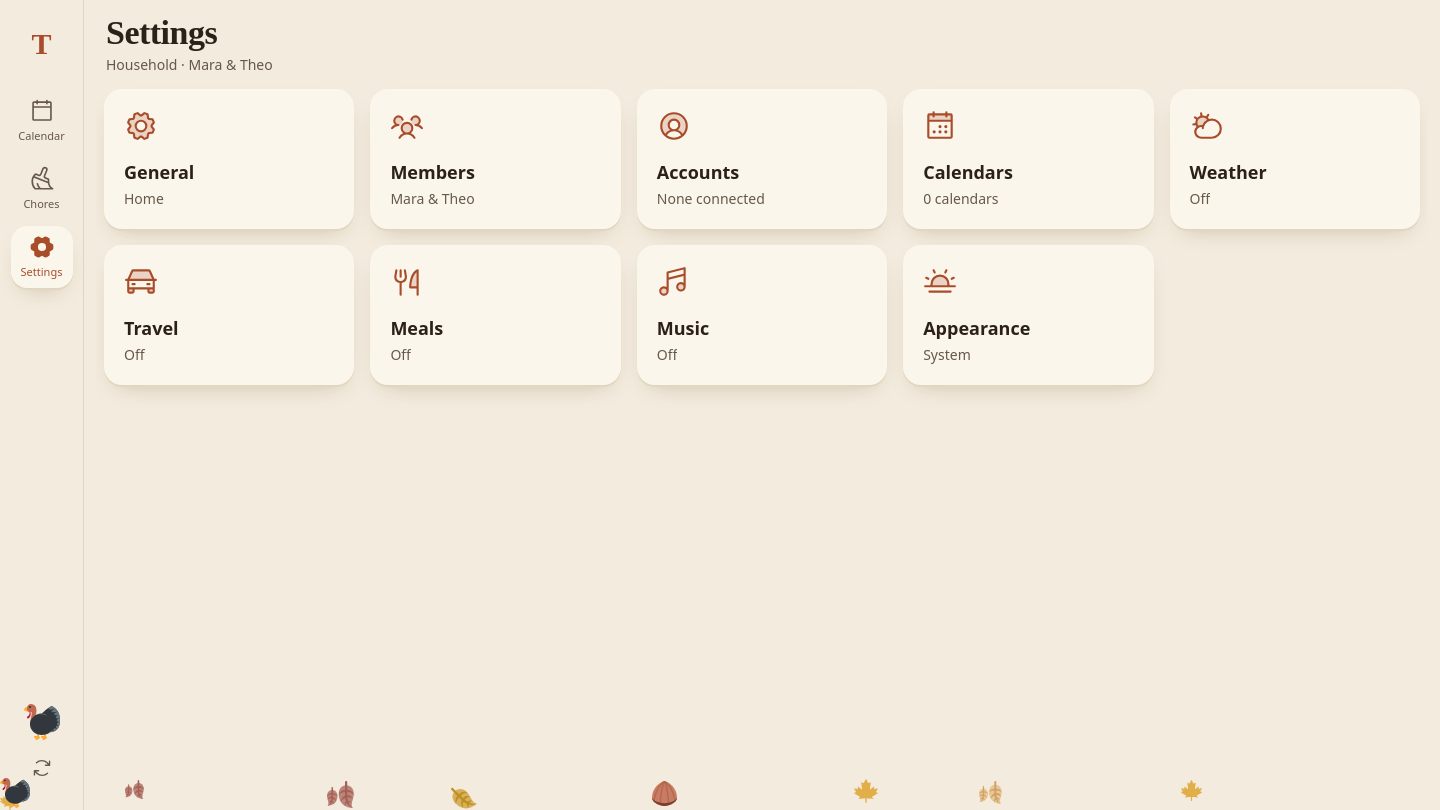
it: app shell › hides Meals and Music until their module is enabled
Expected: the button "Members Mara & Theo" is shown, 370,89 -> 621,229
Click the button "Meals Off".
click(496, 315)  # box 370,245 -> 621,385
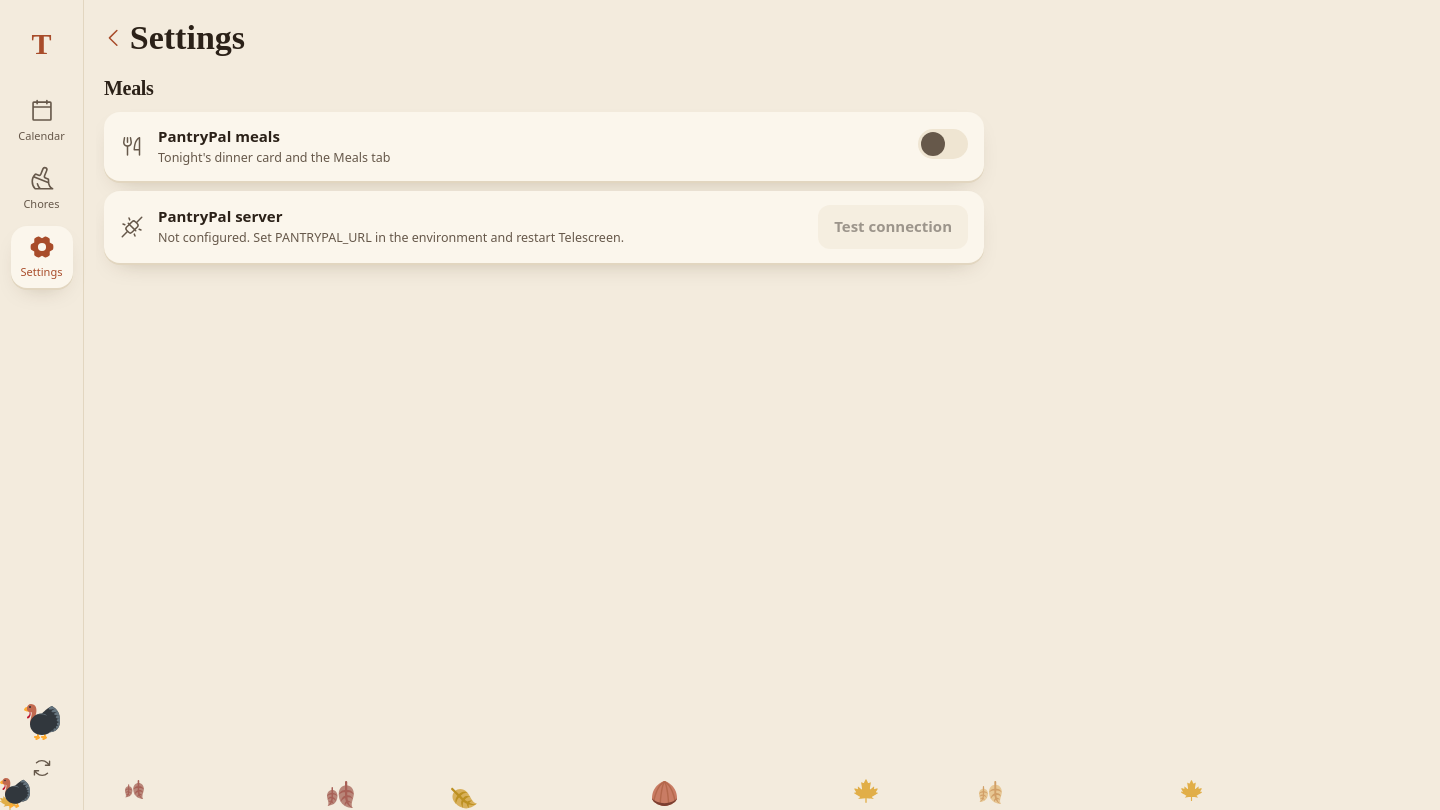
Click the switch named "Meals".
click(943, 144)  # box 918,129 -> 968,159
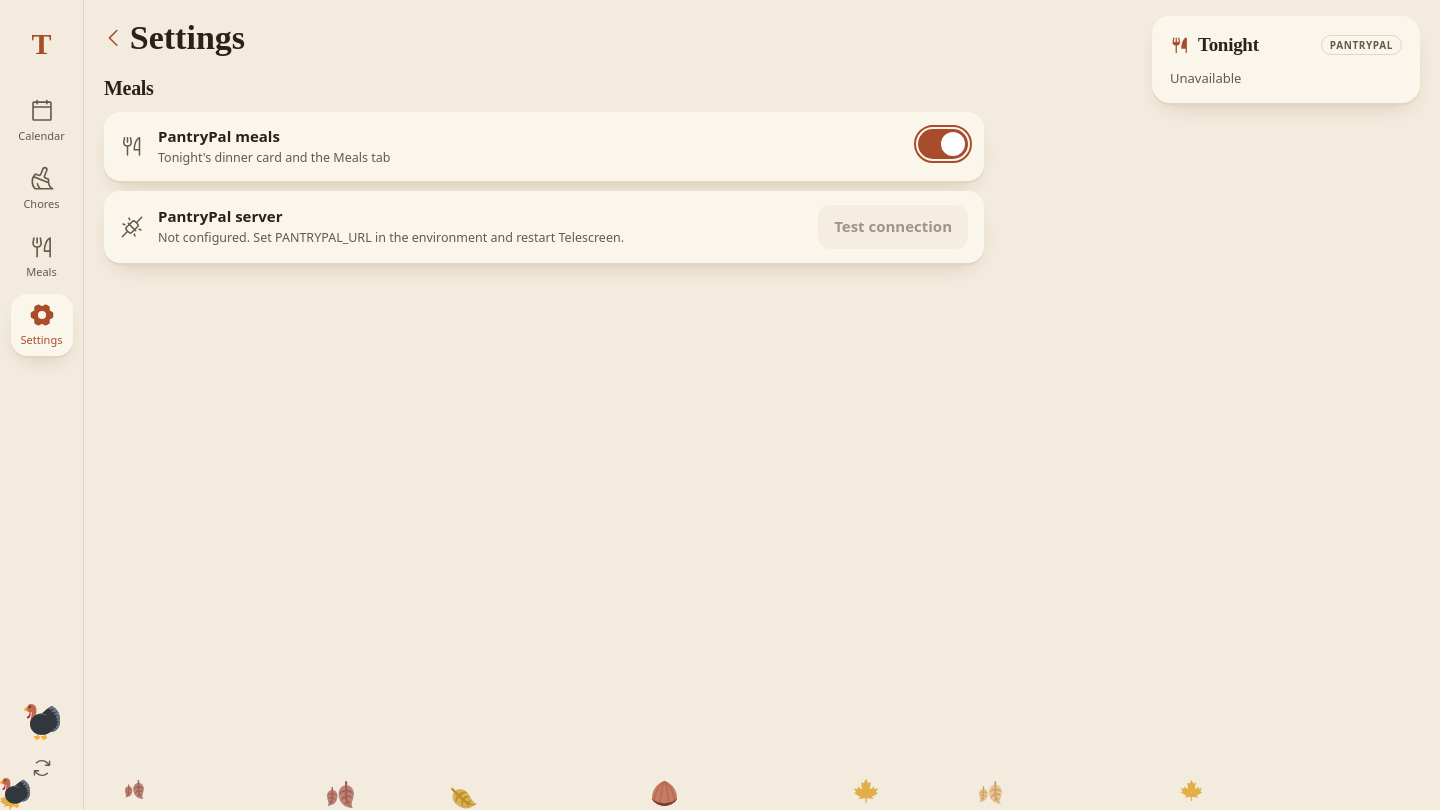
Expected: the button "Music" is not shown
Result: the number of links "Meals" is 2
